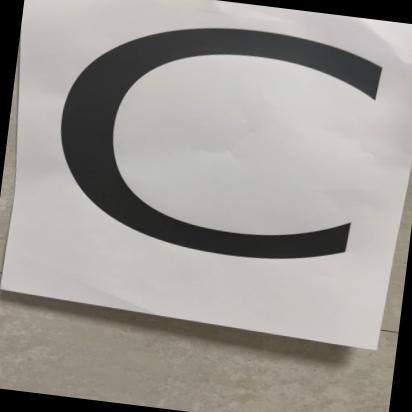seat: (17, 0, 412, 342)
